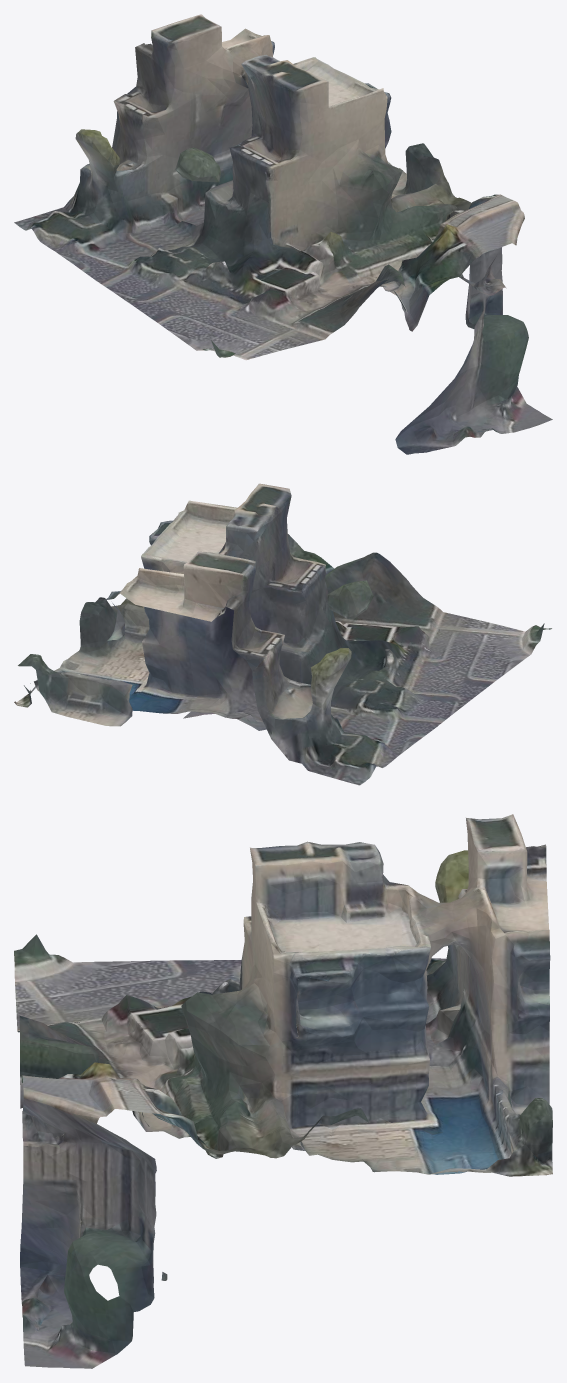
The model's file is Tile_+012_+008_L20_000003500.glb.
The picture shows the model from 3 angles, top to bottom: view 1: azimuth 30°, elevation 25°; view 2: azimuth 150°, elevation 25°; view 3: azimuth 270°, elevation 25°; orthographic projection. The views are drawn at different scales.
Visible parts, largest first — view 1: rtc; view 2: rtc; view 3: rtc.
Part boxes in pixels (x1,y1,x2,y2): rtc: [14, 14, 552, 454]; rtc: [14, 483, 551, 785]; rtc: [14, 814, 552, 1368].
Bounding box in the file's own units: 32.14 × 27.88 × 32.68.
Materials: 1 (1 with a texture image).
